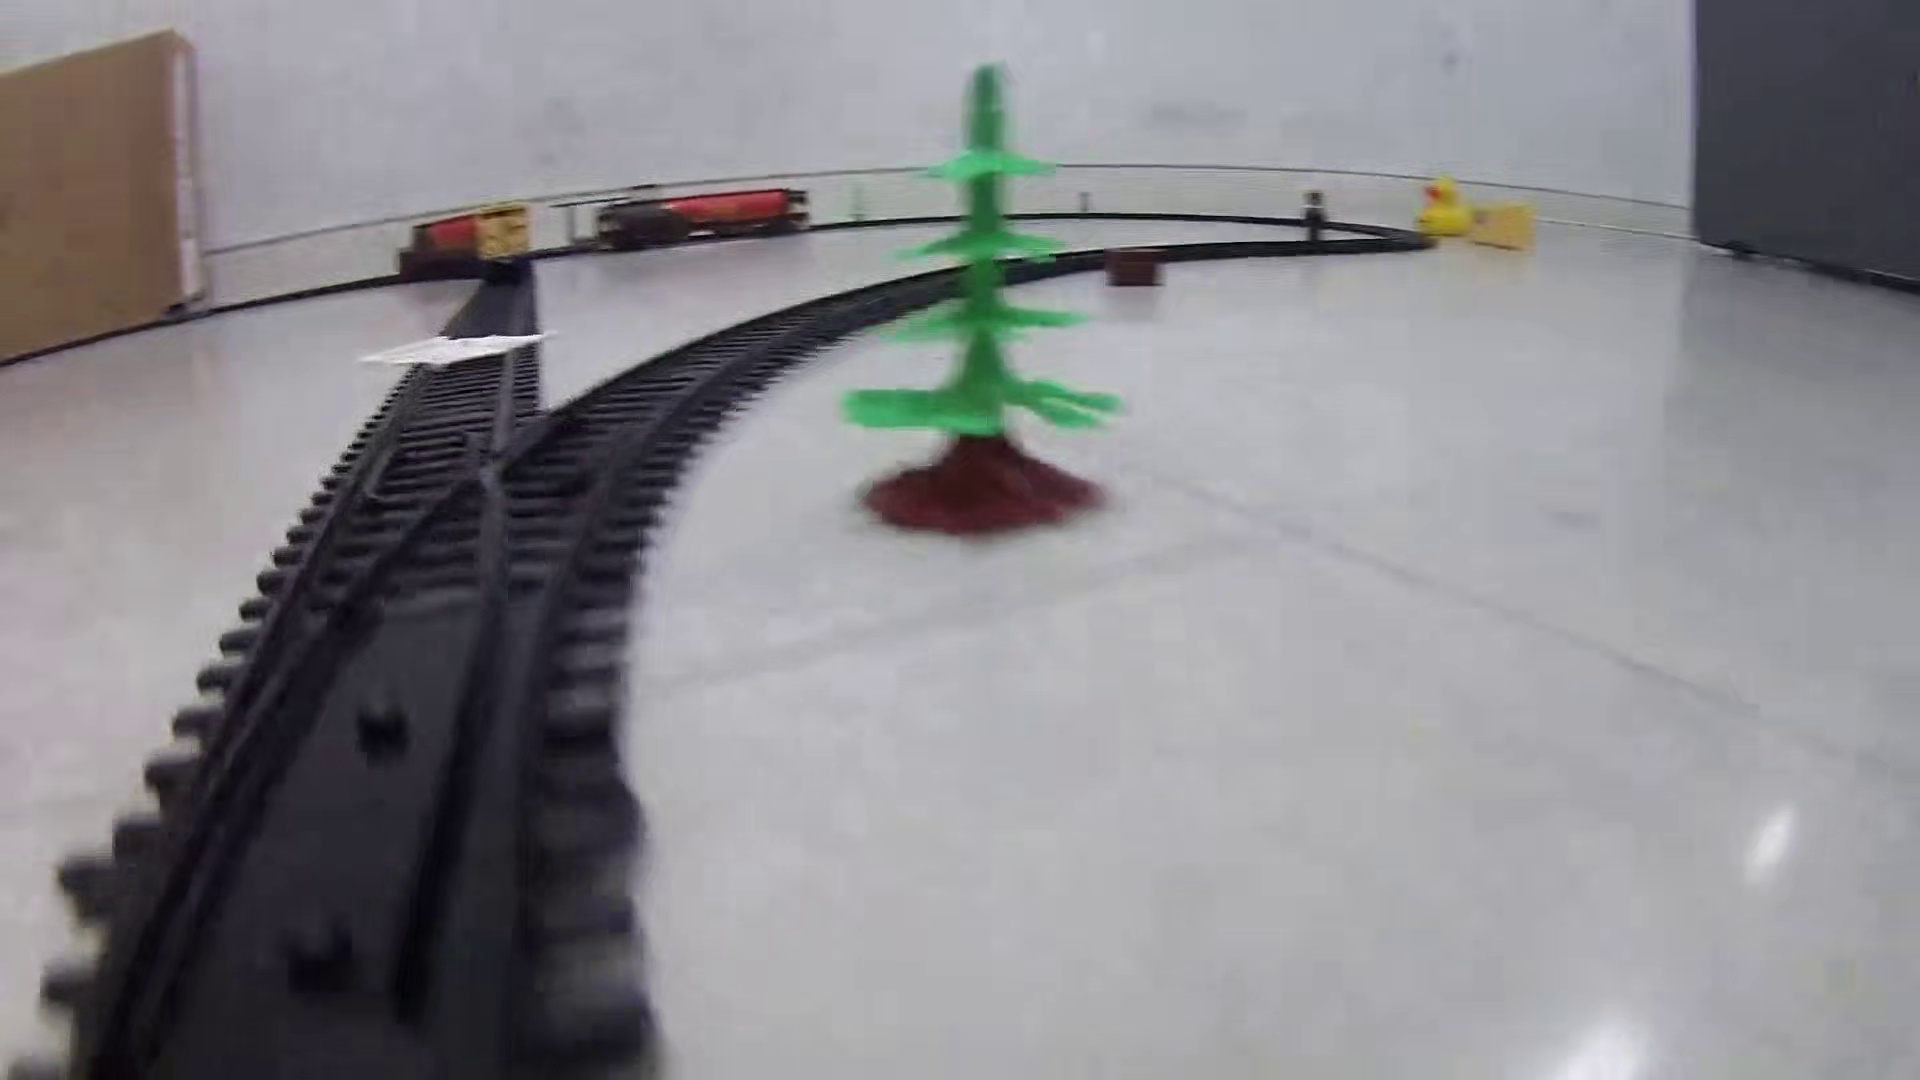box: (1097, 240, 1169, 293)
people: (1297, 188, 1334, 259)
tree: (839, 59, 1135, 544)
web: (352, 327, 559, 376)
